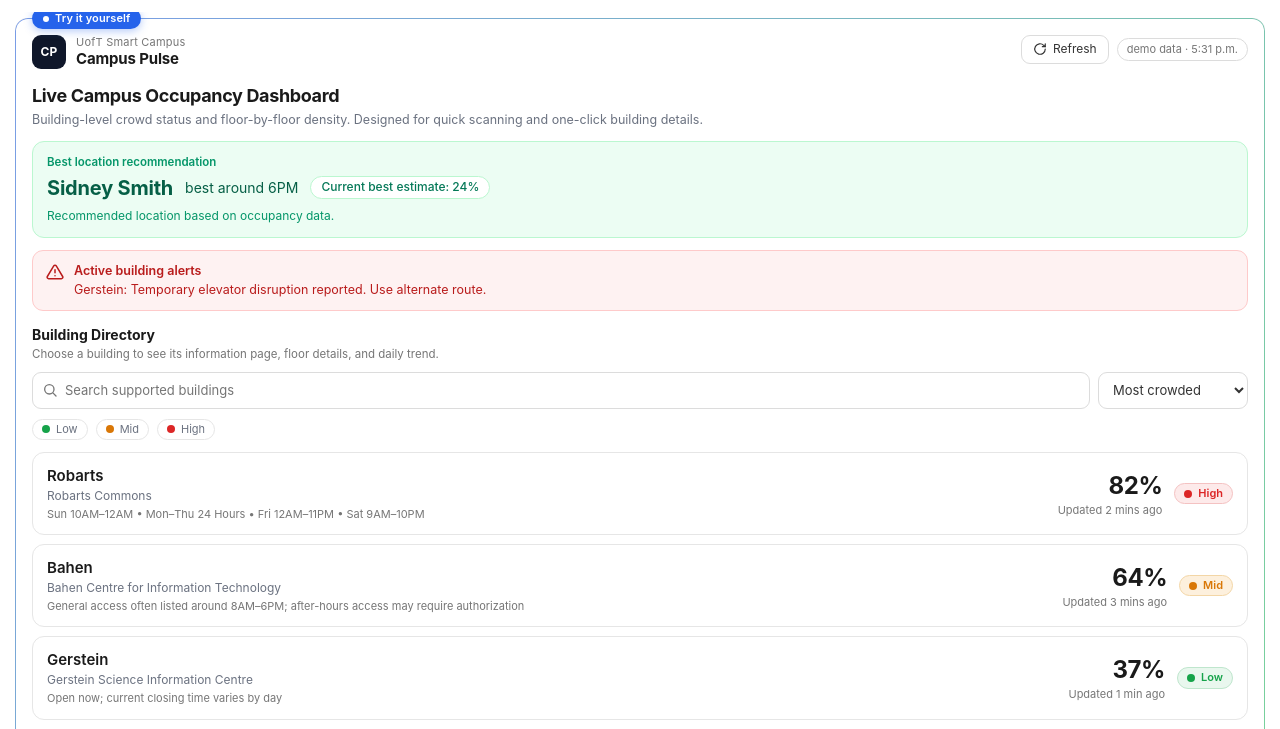
Test: surfaces the Gerstein emergency alert on its detail page
This screenshot has width=1280, height=729.
Click the button "Gerstein": (78, 660) top-left (32, 636), bottom-right (1248, 720)
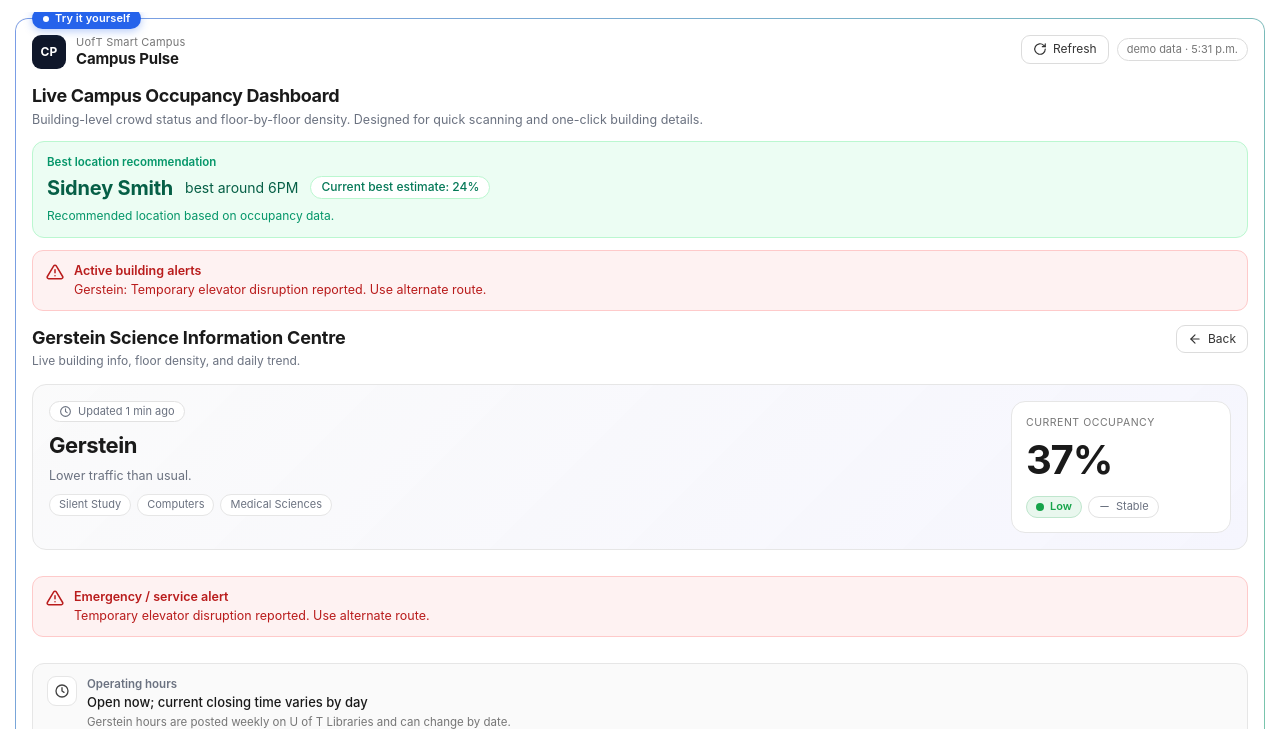
Now the text "Temporary elevator disruption reported. Use alternate route." is shown, box top-left (74, 607), bottom-right (430, 625)
